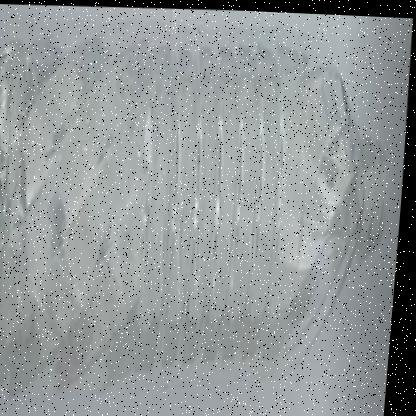open bottle: (277, 11, 416, 416)
